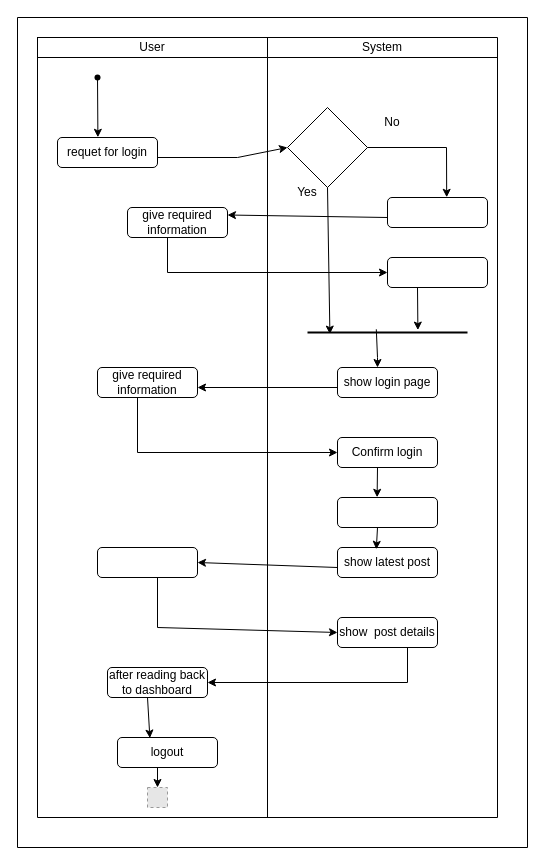
The diagram is 546 pixels wide and 866 high, and some of its shapes have lost their labels. Grey dashed boxes stand in for pictures. Each missing label, with the centre of its shape:
"check if registered" belongs at pixel 327 147.
"Confirm registration" belongs at pixel 437 272.
"requet for read post" belongs at pixel 147 562.
"show dashboard" belongs at pixel 387 512.
"show registration form" belongs at pixel 437 212.
